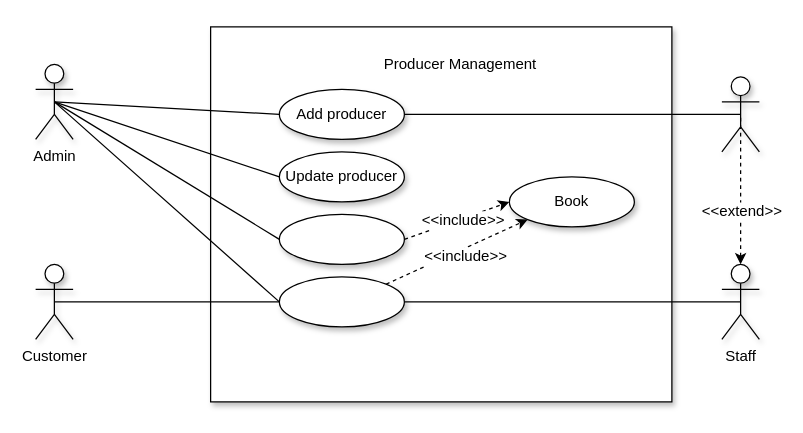
Image size: 803x433. Some labels were removed from this diagram. The centre of each missing label's shape, as x and y in pixels:
"Delete producer" goes at point (342, 240).
"Guest" goes at point (741, 116).
"View producer" goes at point (342, 303).
